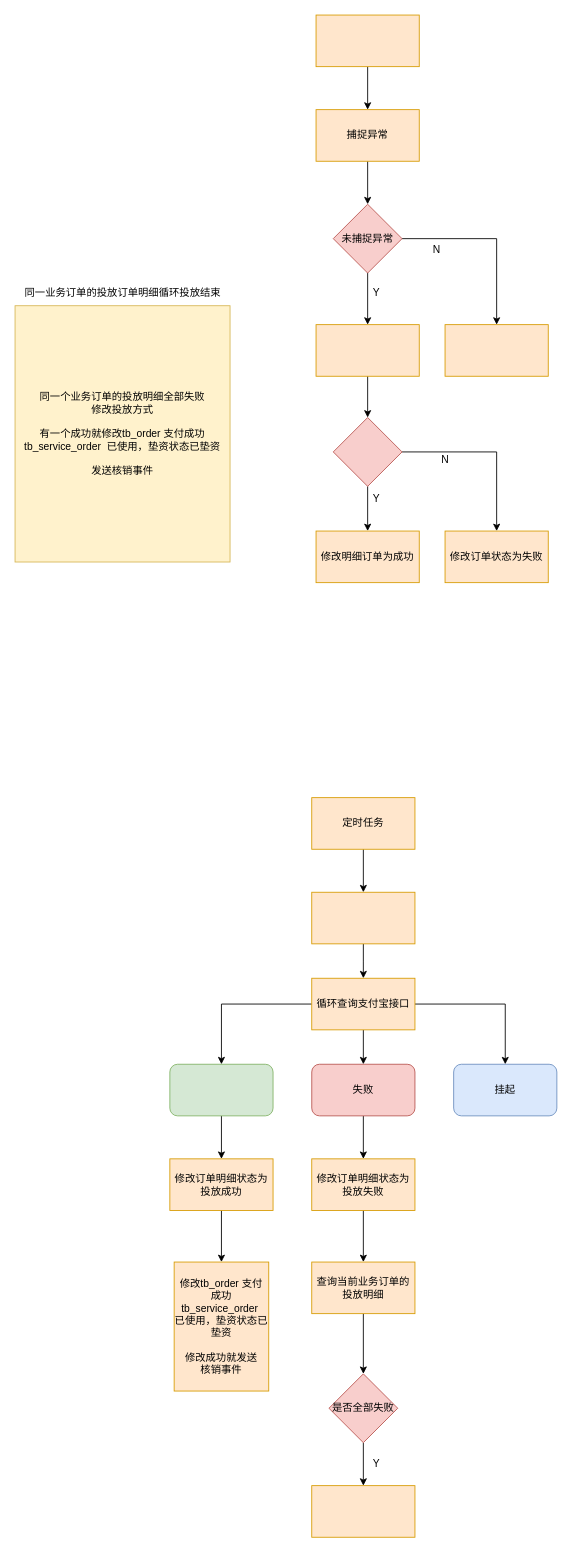
Some shapes in this 572 by 1552 pixel diagram are drawn without their labels. The shapes that lost their labels are listed below. From the top down, each one's centre as x and y in pixels, then its label:
point (367, 40): 请求支付宝投放接口
point (367, 350): 根据响应结果判断
point (496, 350): 修改明细订单为异常
point (367, 451): 是否成功
point (363, 917): 扫描异常订单明细
point (221, 1089): 成功
point (363, 1511): 修改投放方式
